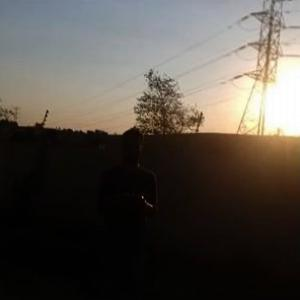follow: (89, 123, 160, 299)
